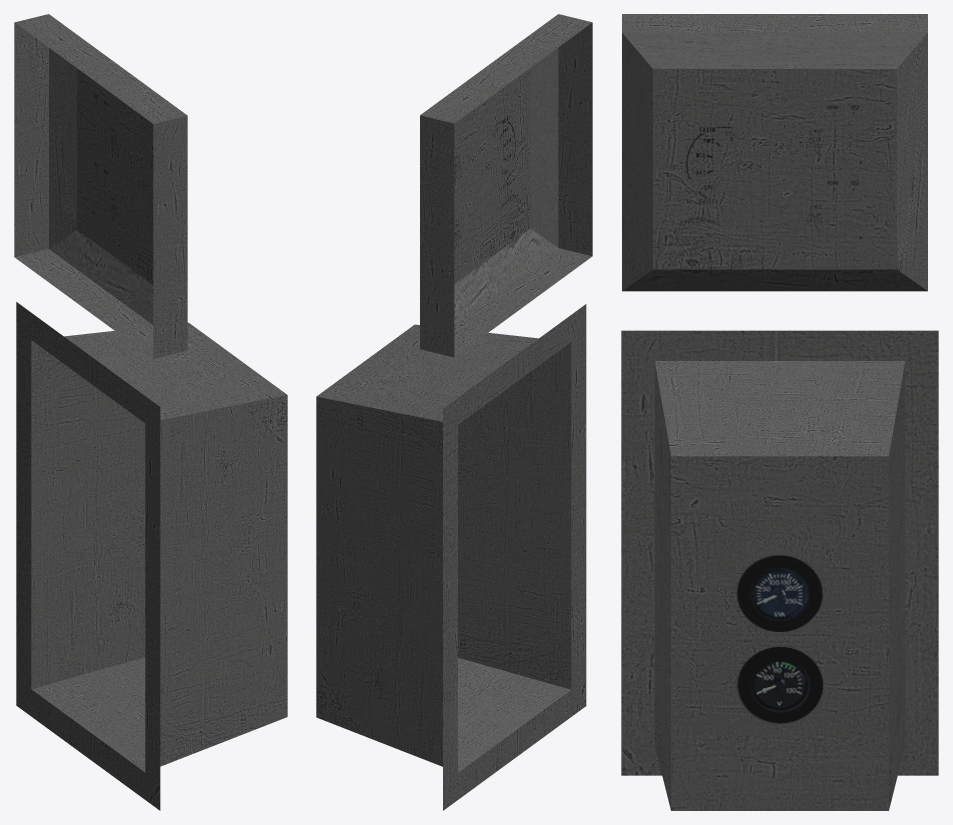
File: p6_cic_mech_panel_a_white_lod2.glb
3 renders of one model, left to right at view 1: azimuth 30°, elevation 25°; view 2: azimuth 150°, elevation 25°; view 3: azimuth 270°, elevation 25°, orthographic. The views are drawn at different scales.
Visible parts, largest first — view 1: surf0; view 2: surf0; view 3: surf0.
Boxes of the visible parts, x1=… form: surf0: x1=14, y1=14, x2=287, y2=810; surf0: x1=316, y1=14, x2=592, y2=810; surf0: x1=621, y1=14, x2=938, y2=810.
Bounding box in the file's own units: 12.32 × 51.82 × 19.65.
